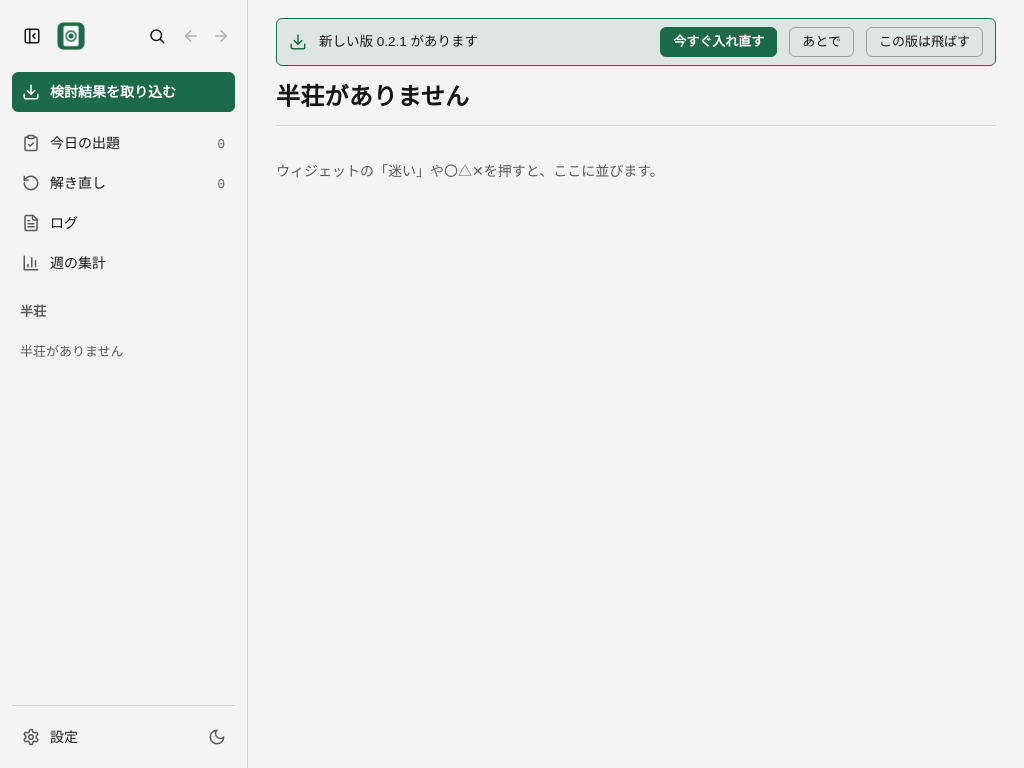
Test case: 更新の帯（U-51） › 「今すぐ入れ直す」を押すまで、入れ直しは呼ばない。押したときだけ、1 回呼ぶ
Click the button "今すぐ入れ直す".
click(719, 42)  # box [660,27,777,57]
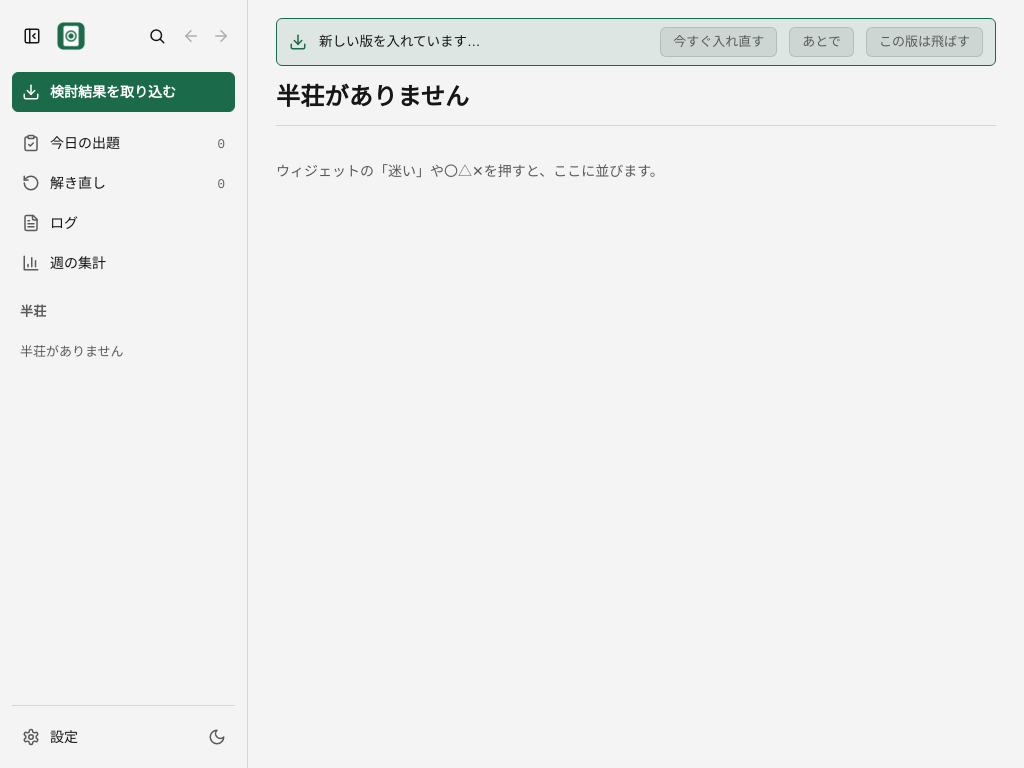
Expected: the text "新しい版を入れています…" is shown, [319,31,481,53]
Expected: the button "今すぐ入れ直す" is disabled, [660,27,777,57]
Expected: the button "あとで" is disabled, [789,27,854,57]
